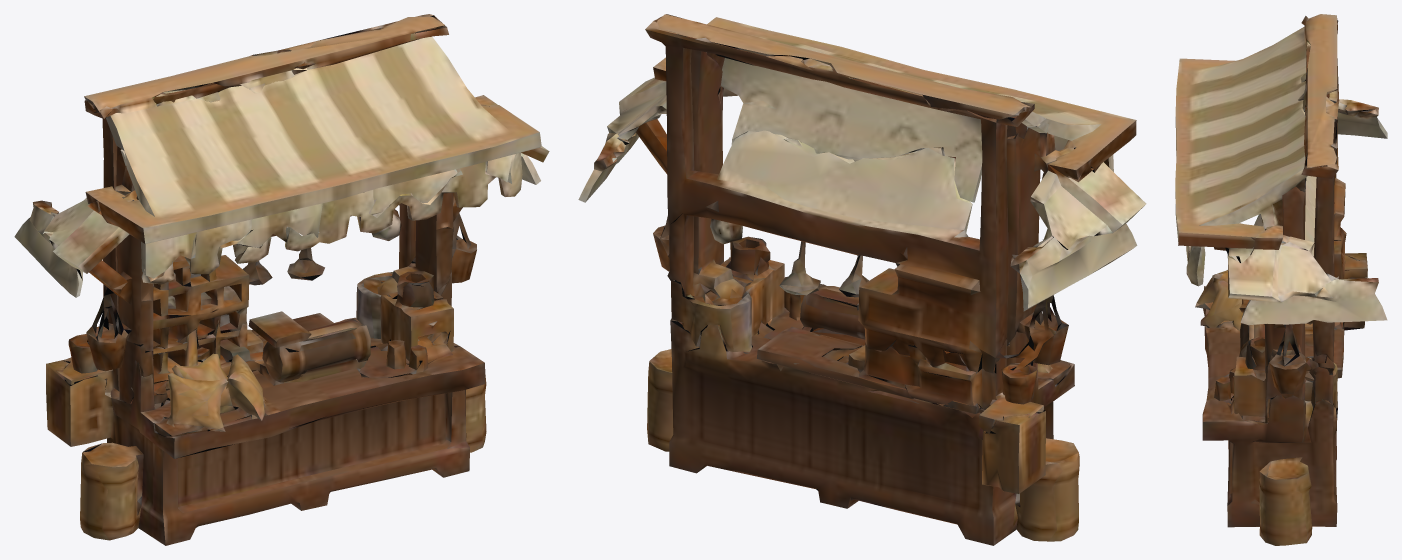
The model's file is market-tier-1.glb.
The picture shows the model from 3 angles, left to right: view 1: azimuth 30°, elevation 25°; view 2: azimuth 150°, elevation 25°; view 3: azimuth 270°, elevation 25°; orthographic projection. The views are drawn at different scales.
Visible parts, largest first — view 1: market_frame, awning, crates; view 2: market_frame, awning, crates; view 3: market_frame, awning, crates.
Boxes of the visible parts, box(x1,y1,x2,y2) form: market_frame: box(14, 14, 540, 545); awning: box(44, 17, 549, 278); crates: box(56, 256, 455, 436); market_frame: box(578, 14, 1137, 545); awning: box(607, 14, 1146, 249); crates: box(671, 237, 1071, 434); market_frame: box(1186, 16, 1387, 545); awning: box(1175, 14, 1368, 302); crates: box(1197, 228, 1367, 423).
Size of the model in its own units: 3.2 by 2.65 by 1.38.
1 material, 1 textured.
